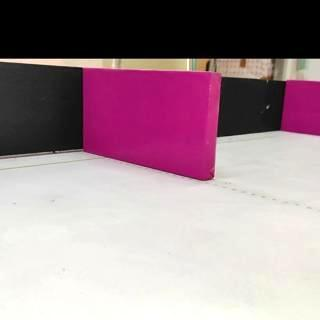xparking: (86, 73, 216, 168), (287, 81, 318, 132)
